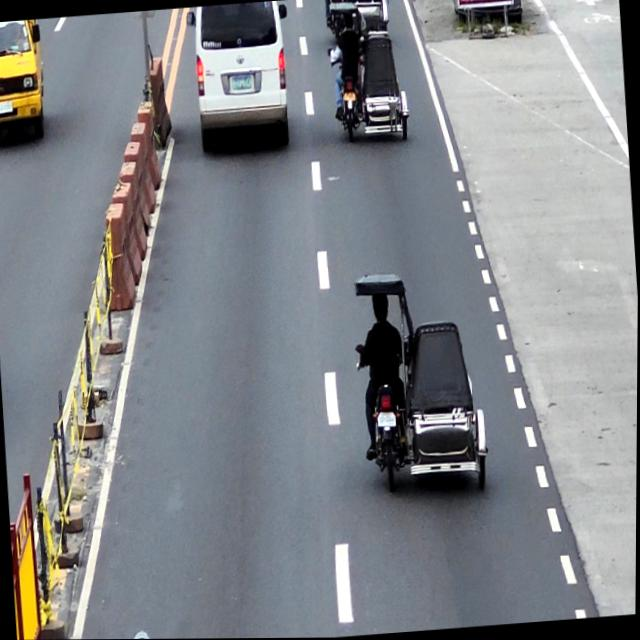Car: (184, 0, 298, 154)
License-Plate: (377, 411, 397, 428), (231, 76, 253, 91), (342, 92, 356, 103)
Tricycle: (351, 266, 492, 498), (325, 0, 411, 148)
